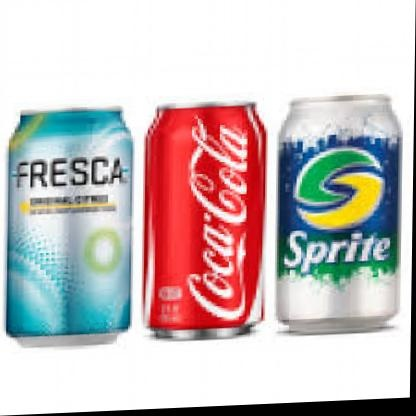trash: (277, 95, 399, 332), (144, 104, 265, 339), (6, 109, 131, 335)
